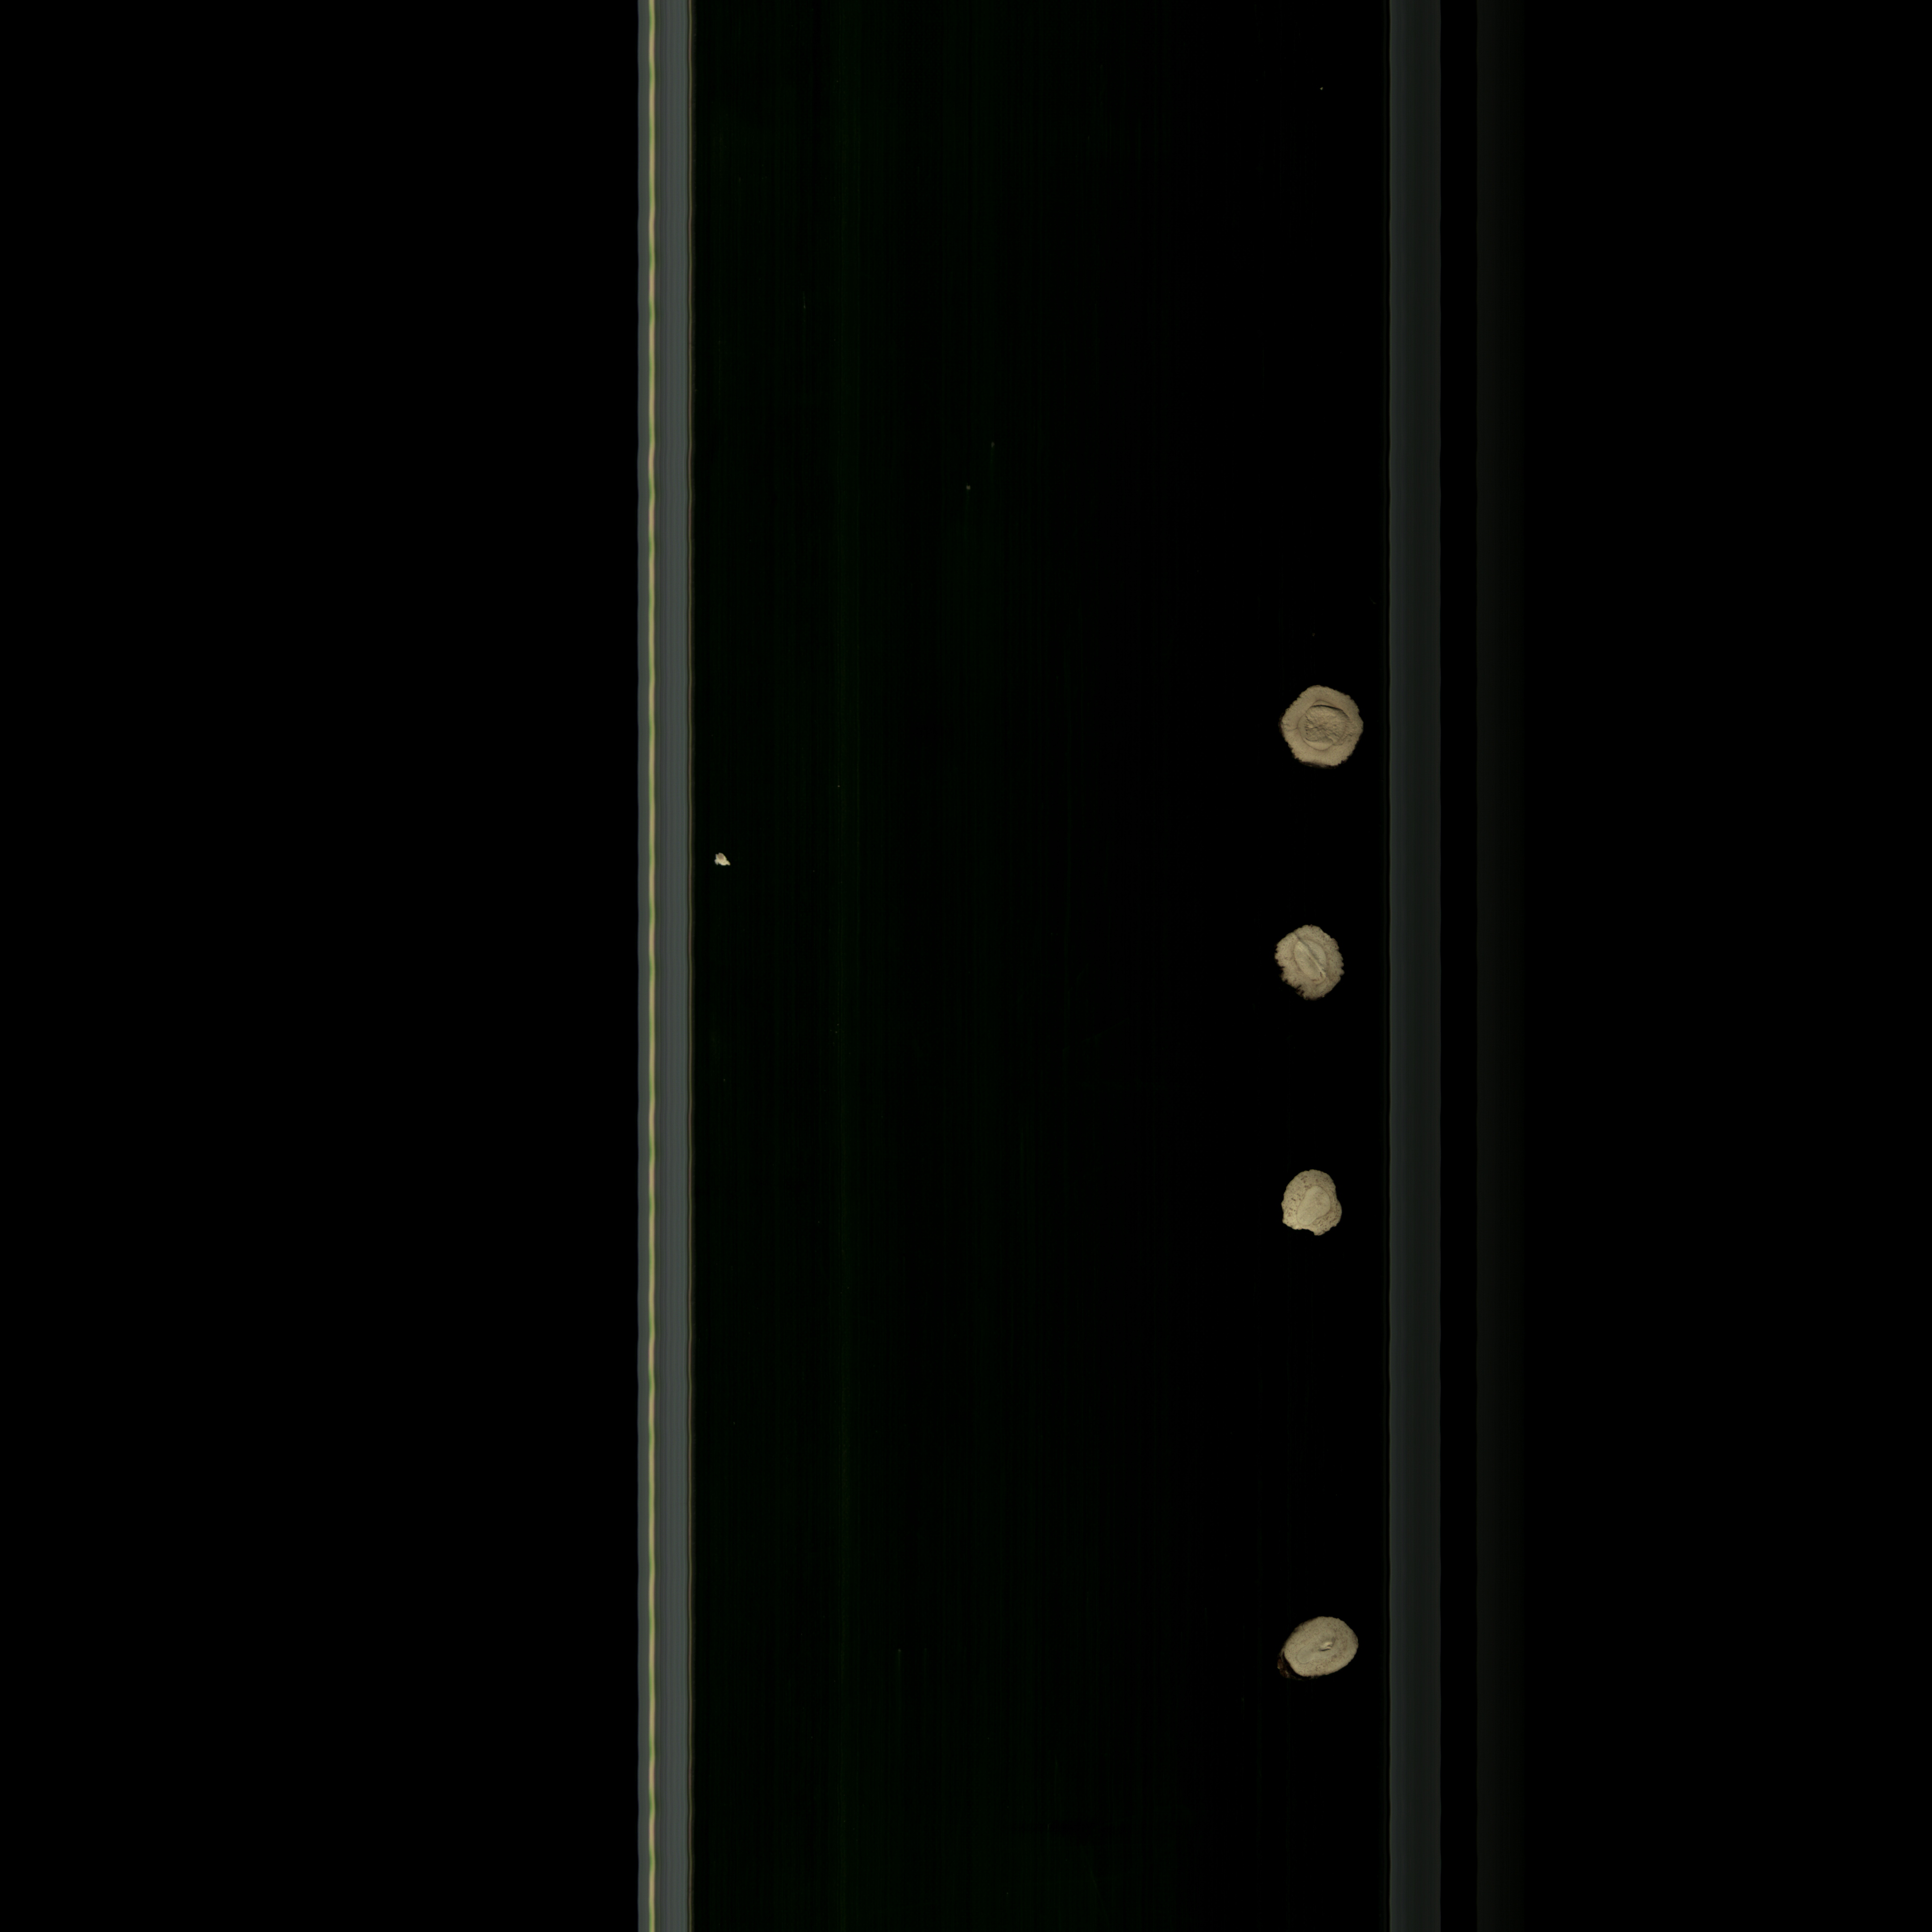debris: (1276, 1166, 1346, 1246)
distortion: (1263, 922, 1359, 1010)
dreg: (706, 844, 743, 883)
moldy: (1272, 683, 1375, 775)
